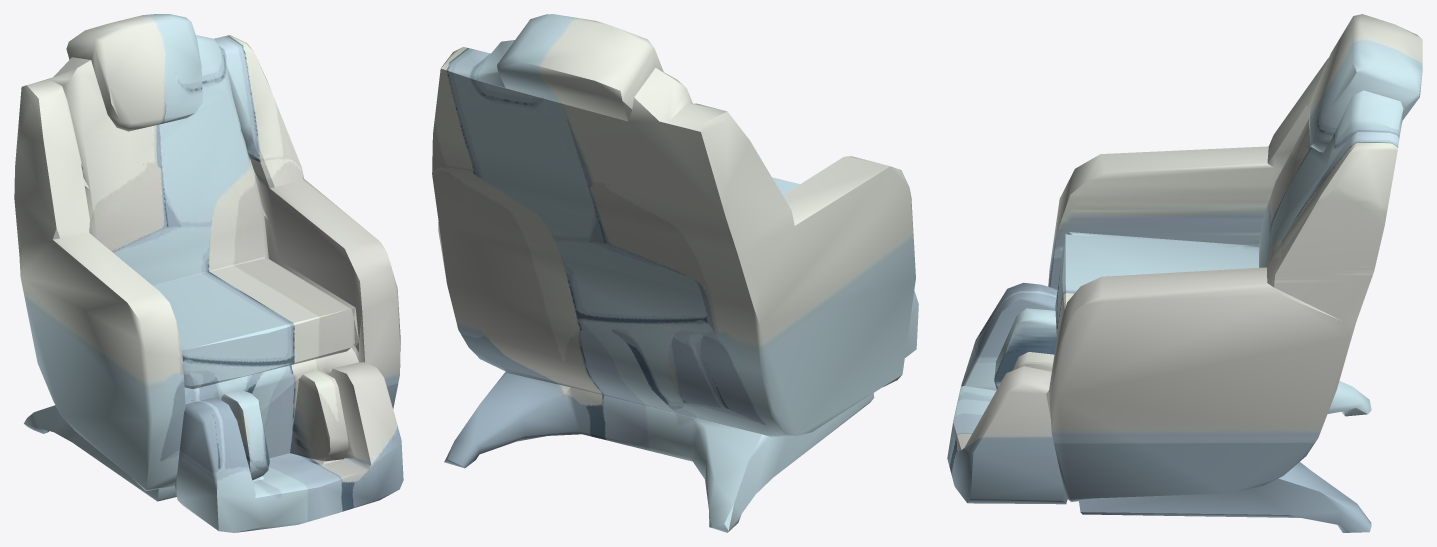
3 views of the same model, side by side, from view 1: azimuth 30°, elevation 25°; view 2: azimuth 150°, elevation 25°; view 3: azimuth 270°, elevation 25° (orthographic). The views are drawn at different scales.
Visible parts, largest first — view 1: Decor_massage_chair; view 2: Decor_massage_chair; view 3: Decor_massage_chair.
Boxes of the visible parts, box(x1,y1,x2,y2) form: Decor_massage_chair: box(14, 14, 403, 532); Decor_massage_chair: box(432, 14, 918, 532); Decor_massage_chair: box(947, 14, 1422, 532).
Bounding box in the file's own units: 0.9147 × 1.3 × 1.27.
1 material, 1 textured.
